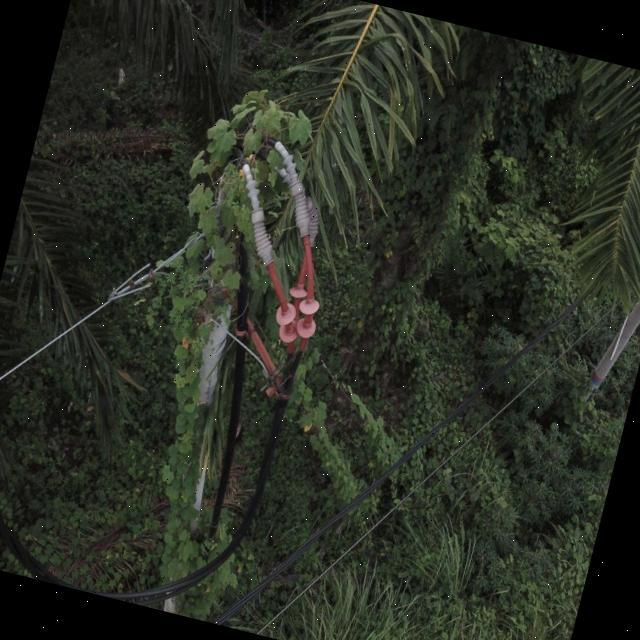critical vegetation: (68, 64, 354, 610), (273, 342, 424, 532)
